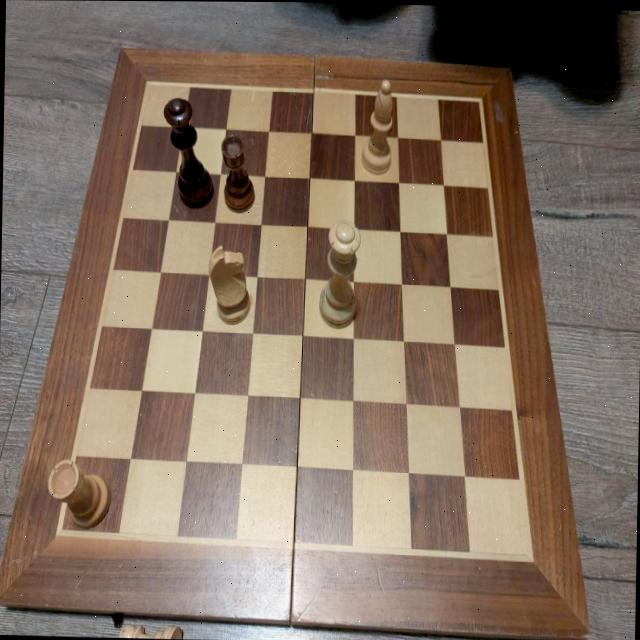black_queen: (162, 97, 215, 208)
black_rook: (220, 135, 256, 212)
white_bishop: (361, 77, 395, 174)
white_knight: (207, 245, 250, 324)
white_queen: (318, 221, 360, 328)
white_rook: (47, 458, 111, 529)
